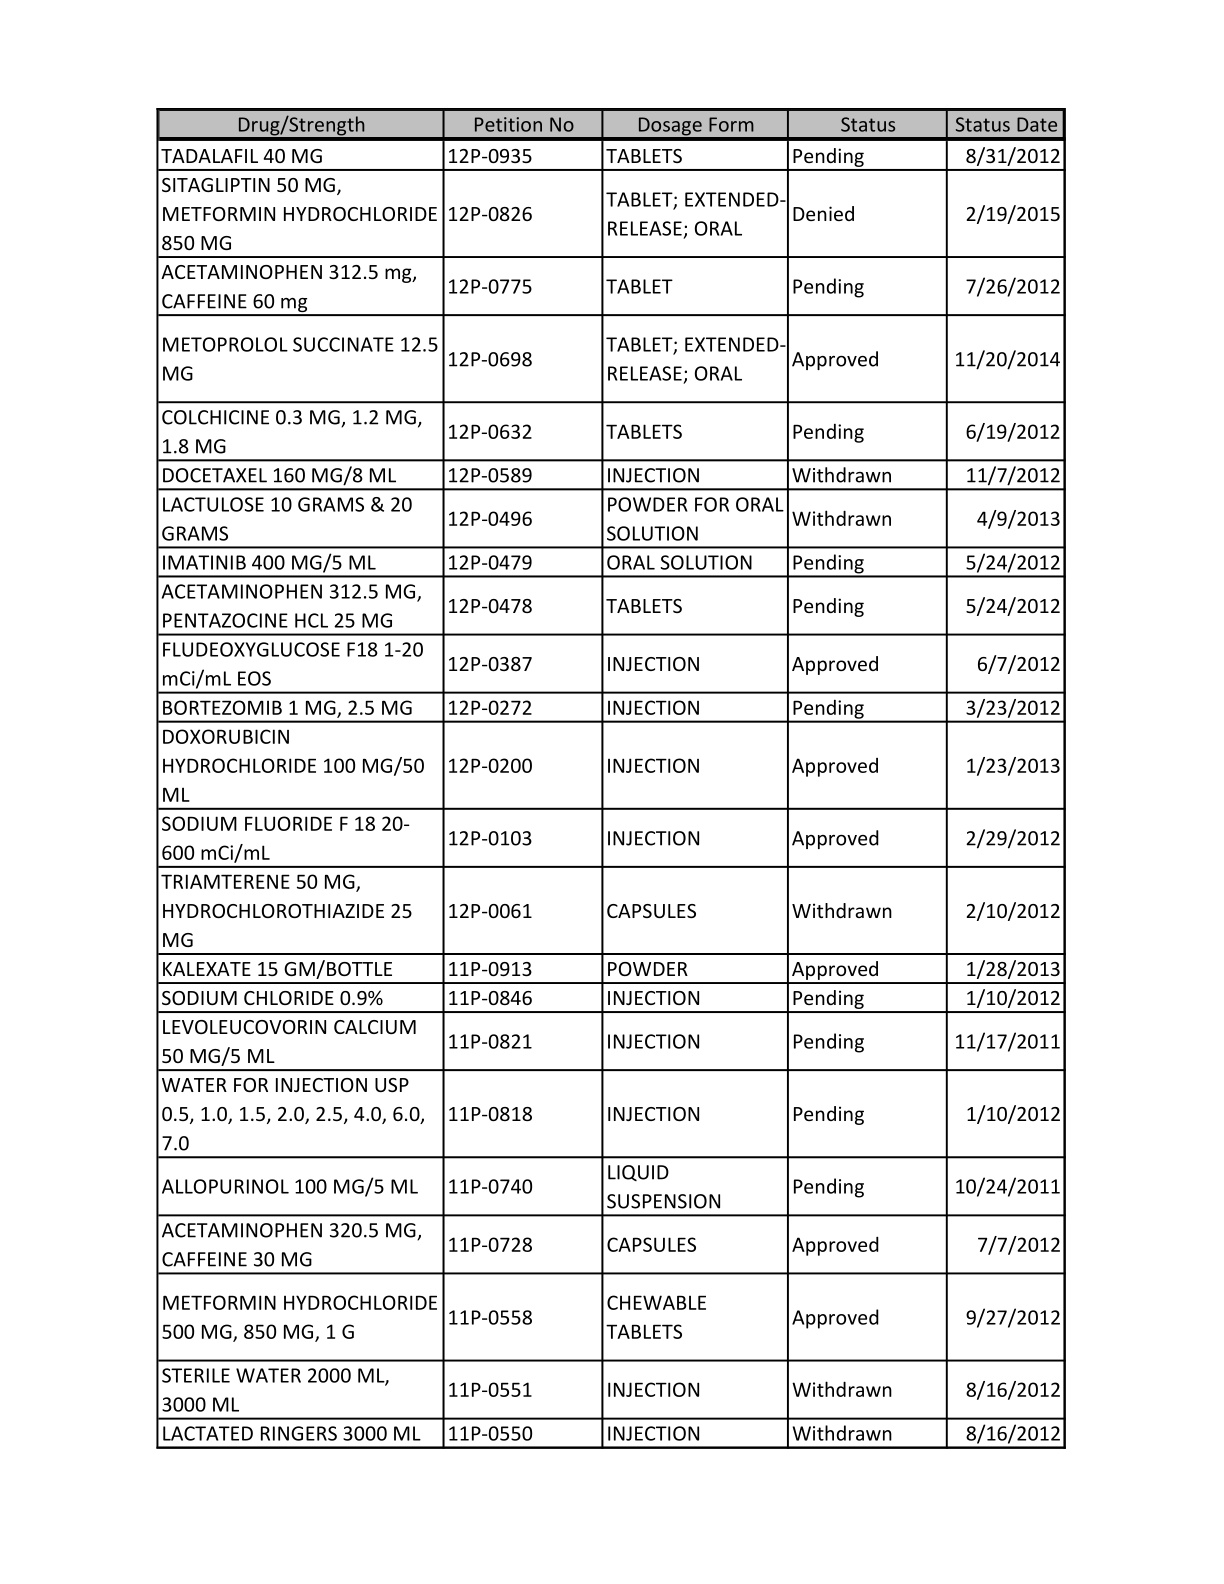full_lined: (154, 108, 1067, 1450)
